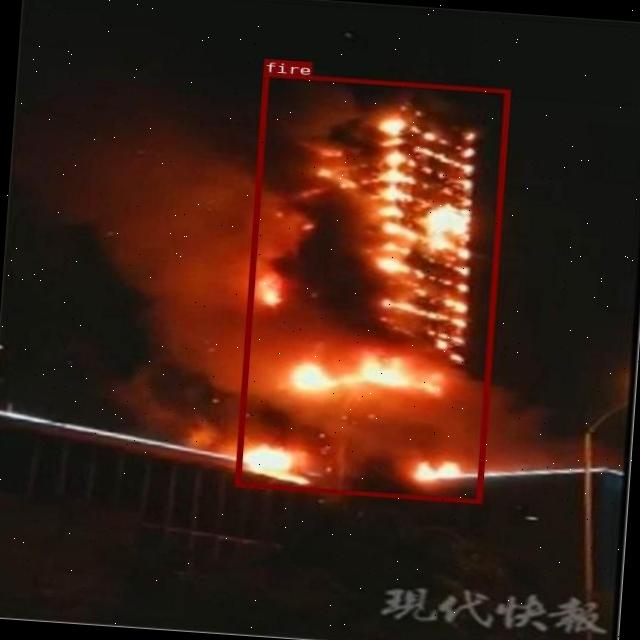fire: (234, 71, 508, 502)
